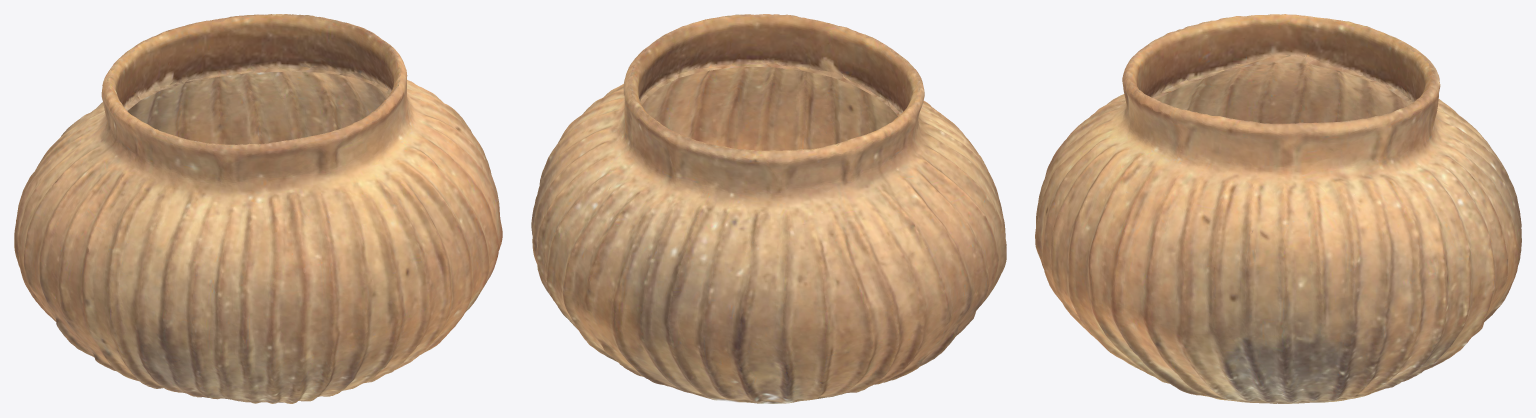
Rendered from Ark_HM_596_Hi.glb.
3 renders of one model, left to right at view 1: azimuth 30°, elevation 25°; view 2: azimuth 150°, elevation 25°; view 3: azimuth 270°, elevation 25°, orthographic. The views are drawn at different scales.
Bounding box in the file's own units: 0.4974 × 0.342 × 0.4929.
1 material, 1 textured.
